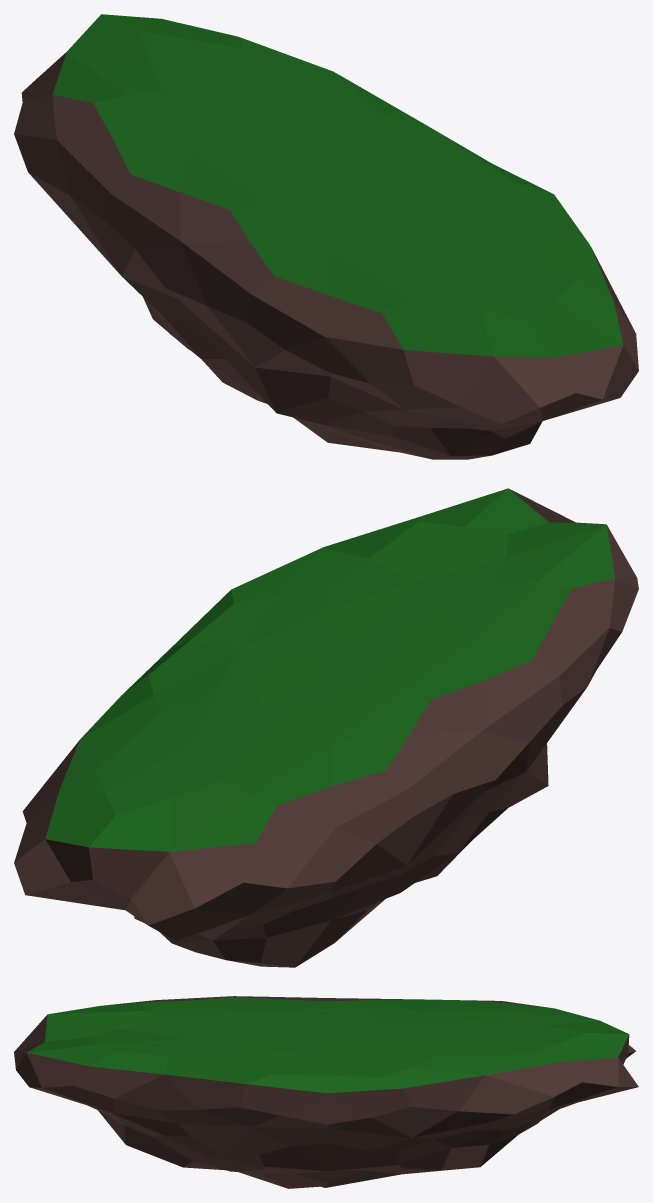
Rendered from Planet_Plato.fbx.
3 renders of one model, top to bottom at view 1: azimuth 30°, elevation 25°; view 2: azimuth 150°, elevation 25°; view 3: azimuth 270°, elevation 25°, orthographic. The views are drawn at different scales.
Parts seen in each view (by area): view 1: Icosphere; view 2: Icosphere; view 3: Icosphere.
Part boxes in pixels (bbox=[...]): Icosphere: bbox=[14, 14, 638, 459]; Icosphere: bbox=[14, 488, 638, 967]; Icosphere: bbox=[14, 996, 638, 1188].
Bounding box in the file's own units: 941 × 680 × 2398.
